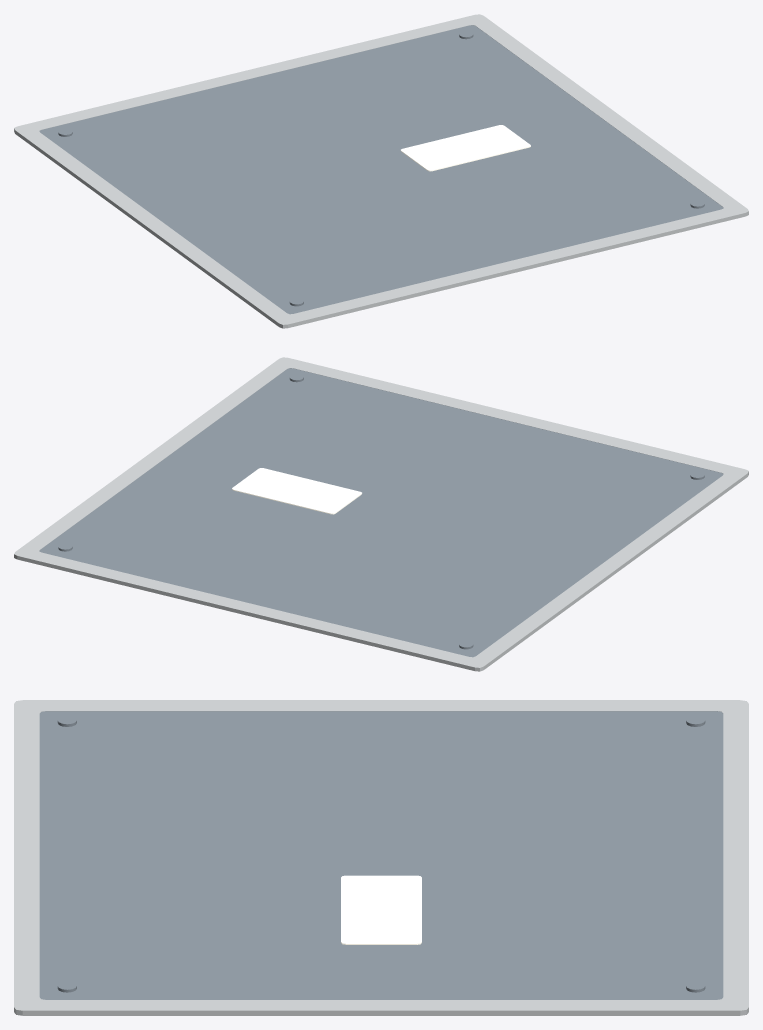
Rendered from source.glb.
The picture shows the model from 3 angles, top to bottom: view 1: azimuth 30°, elevation 25°; view 2: azimuth 150°, elevation 25°; view 3: azimuth 270°, elevation 25°; orthographic projection. The views are drawn at different scales.
Parts seen in each view (by area): view 1: 机加工金属, 粉末涂层铝壳, Emitters; view 2: 机加工金属, 粉末涂层铝壳, Emitters; view 3: 机加工金属, 粉末涂层铝壳, Emitters.
Part boxes in pixels (x1,y1,x2,y2): 机加工金属: [39, 25, 723, 314]; 粉末涂层铝壳: [14, 14, 748, 328]; Emitters: [400, 125, 530, 171]; 机加工金属: [39, 368, 723, 657]; 粉末涂层铝壳: [14, 357, 748, 671]; Emitters: [232, 468, 362, 514]; 机加工金属: [39, 711, 723, 999]; 粉末涂层铝壳: [14, 700, 748, 1015]; Emitters: [341, 875, 421, 944].
Size of the model in its own units: 0.595 by 0.0107 by 0.595.
